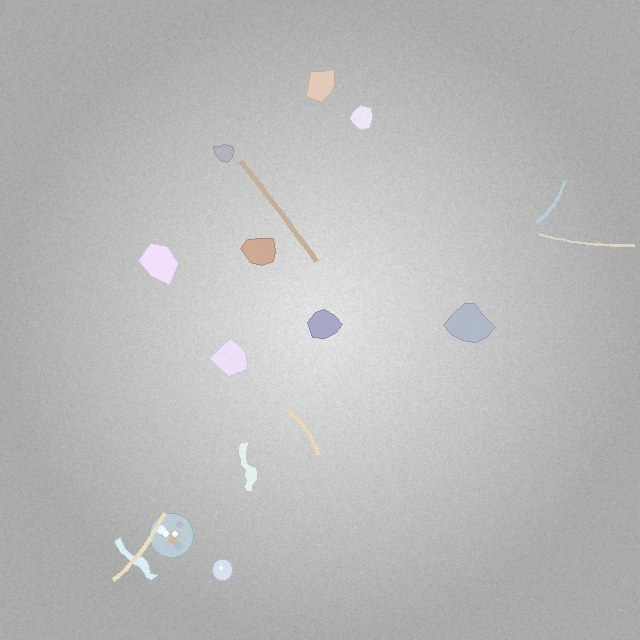fiber: (236, 156, 321, 266), (109, 509, 169, 585), (283, 406, 322, 459), (536, 231, 638, 249), (533, 178, 568, 226)
film: (114, 537, 159, 581), (239, 441, 257, 492)
foam: (149, 513, 193, 557)
fragment: (443, 303, 496, 342), (138, 243, 179, 286), (209, 339, 248, 376), (305, 69, 335, 102), (308, 310, 342, 338), (241, 238, 276, 265), (350, 105, 372, 129), (213, 145, 234, 163)
pellet: (213, 560, 233, 580)
